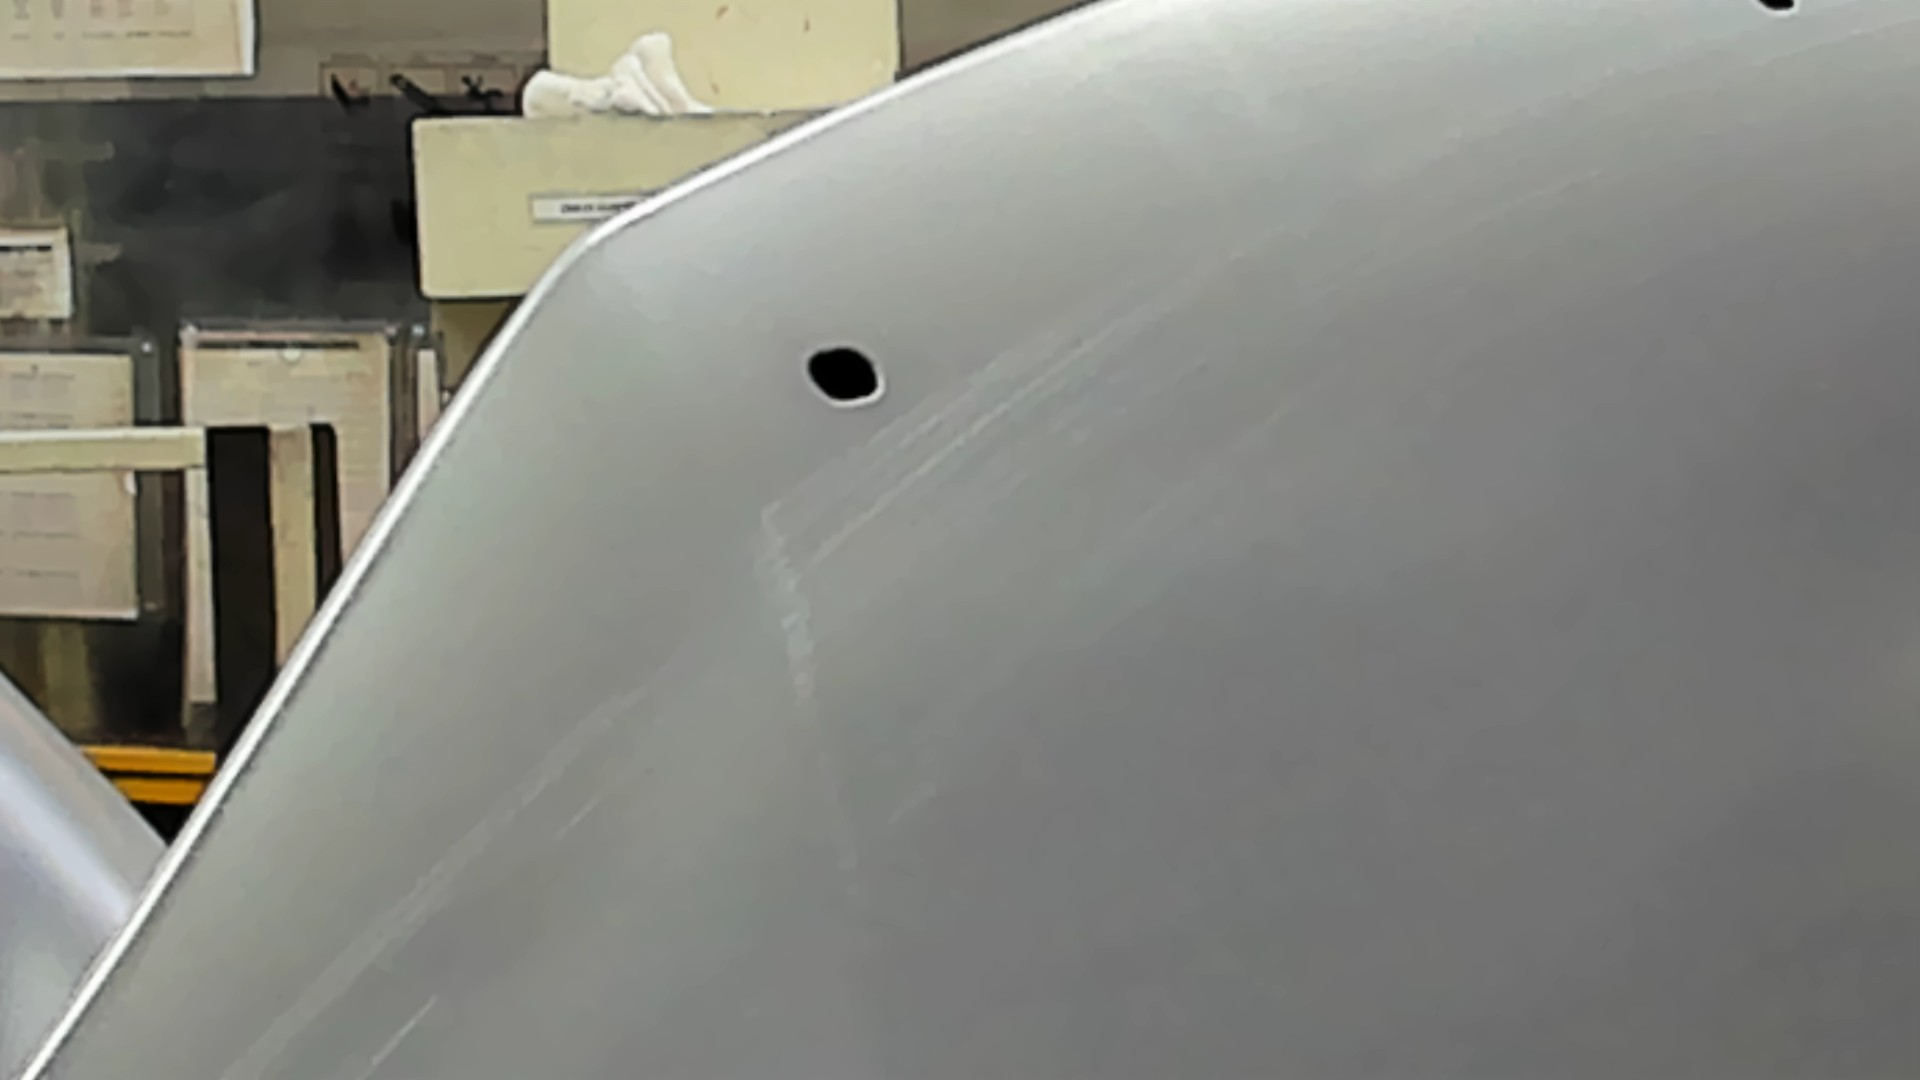amorfo: (800, 344, 886, 404), (1753, 1, 1803, 20)
